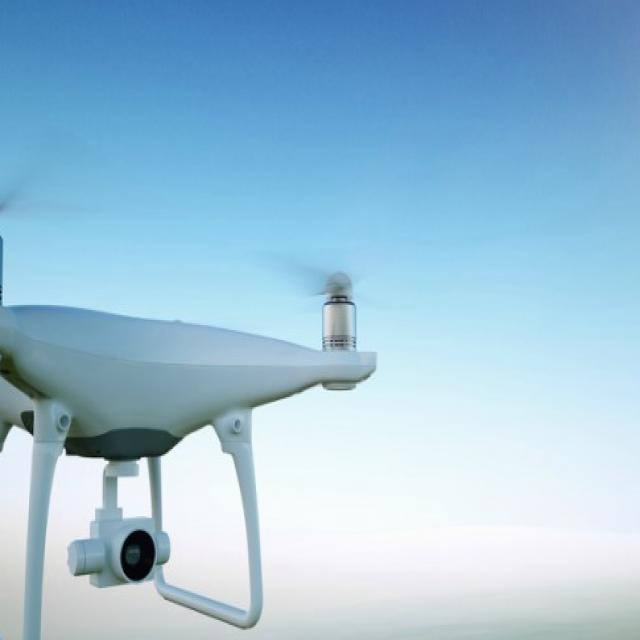drone: (0, 161, 395, 538)
